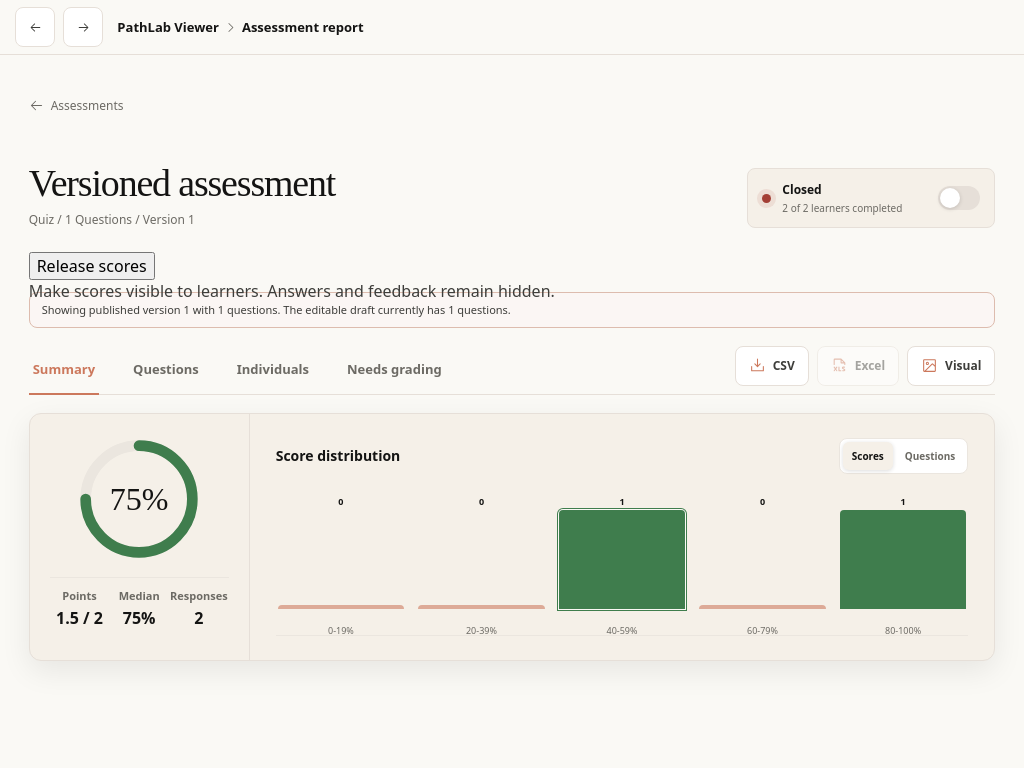
Test: keeps published report questions separate from newer draft edits and filters learners
Expected: the text "Showing published version 1 with 1 questions. The editable draft currently has 1 questions." is shown, [29, 292, 995, 328]
Click the button "Questions" in the row of "CSV" at x=166, y=370, box [129, 346, 203, 394]
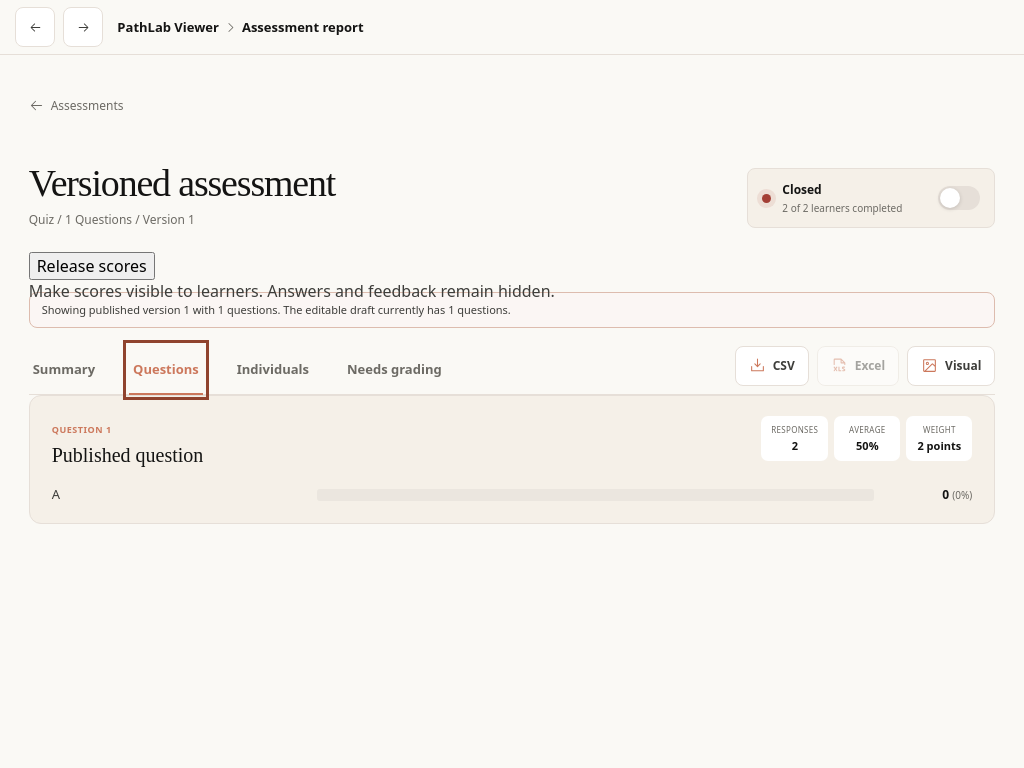
Expected: the heading "Published question" is shown, [52, 444, 203, 466]
Click the button "Individuals" at x=273, y=370, box [233, 346, 313, 394]
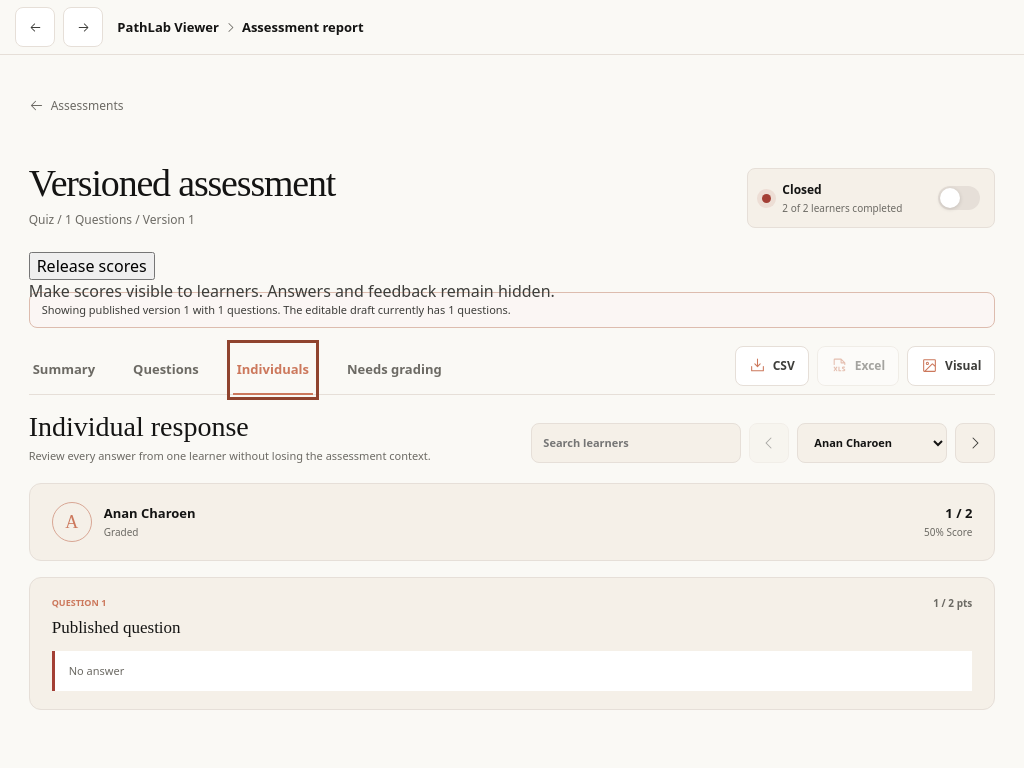
Type "Zain" into the search field labelled "Search learners" at x=636, y=443, box [531, 423, 741, 463]
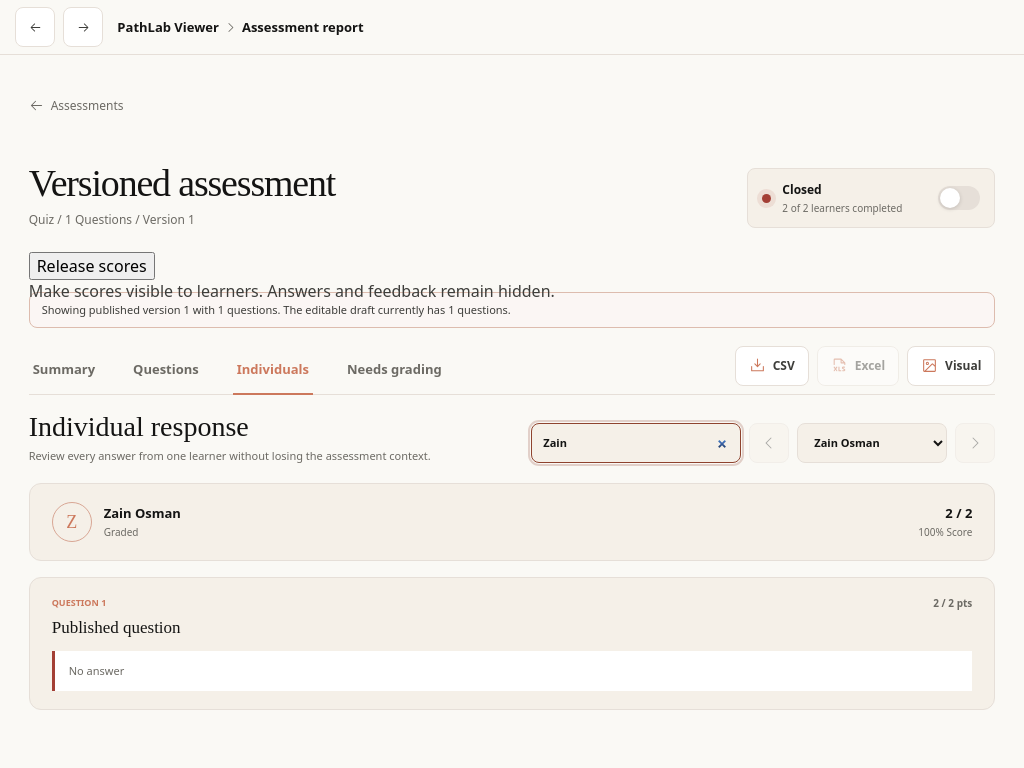
Expected: the dropdown named "Select learner" no longer shows "Anan Charoen", [797, 423, 947, 463]
